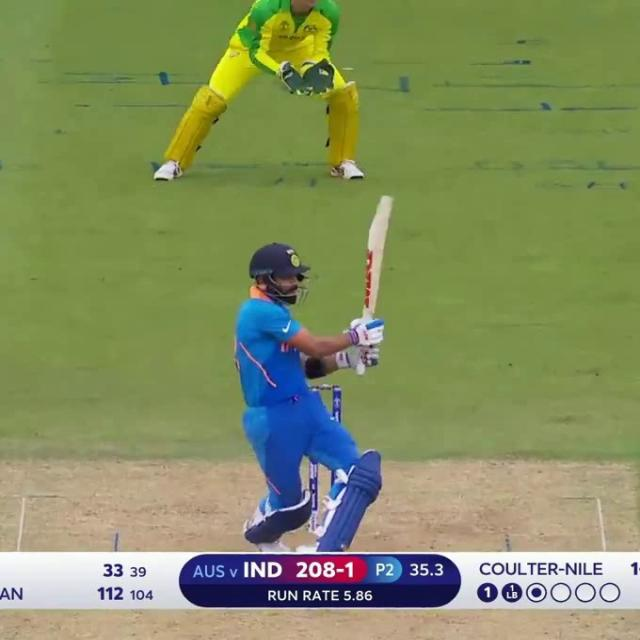bat: (363, 192, 398, 318)
toe: (381, 194, 397, 202)
